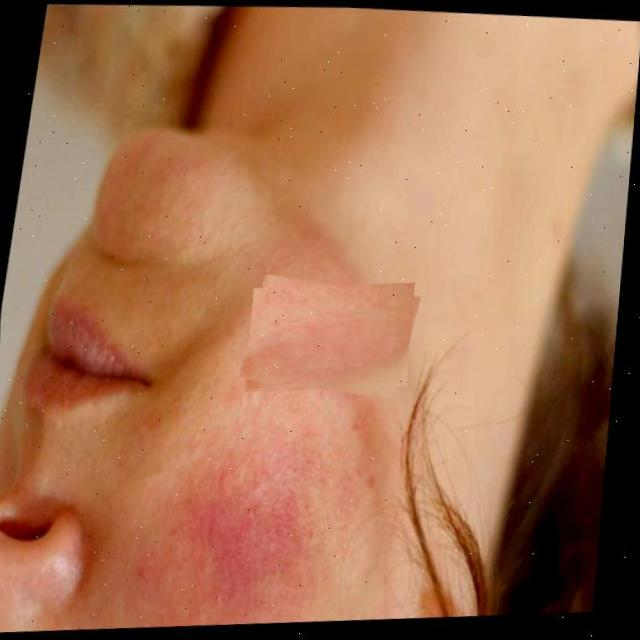redness: (126, 453, 341, 625), (249, 291, 417, 391)
